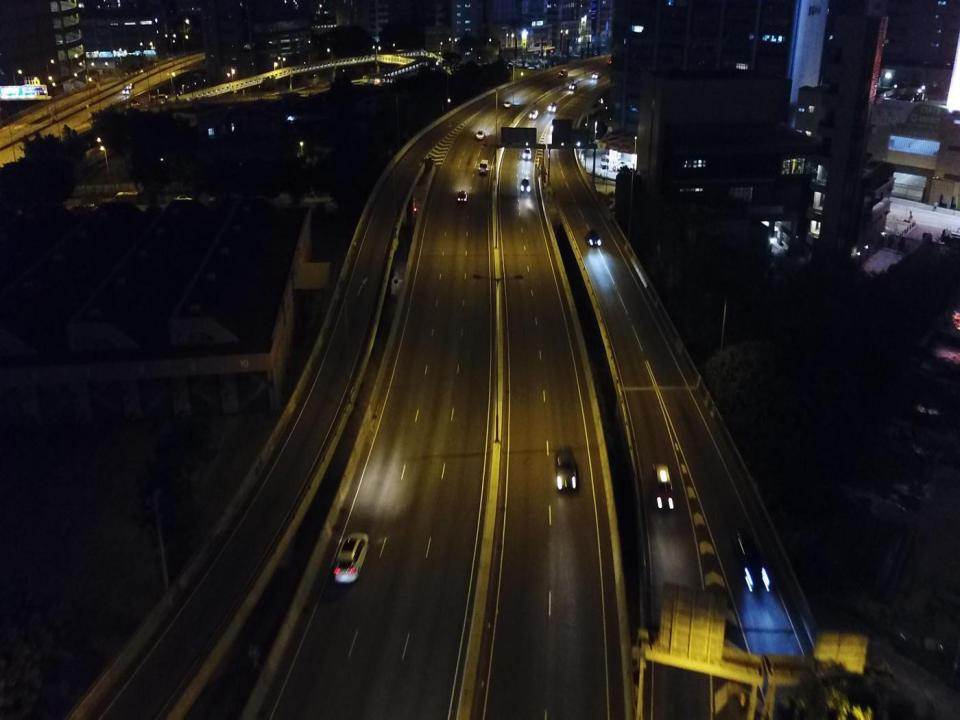car: (736, 530, 768, 589), (334, 531, 367, 584), (651, 462, 677, 514), (554, 447, 579, 492), (586, 228, 602, 247), (613, 160, 630, 171), (175, 194, 194, 203), (523, 146, 532, 161), (521, 177, 530, 192), (456, 191, 468, 202), (548, 102, 556, 114), (475, 131, 486, 139), (592, 72, 601, 80), (504, 99, 512, 108), (569, 82, 577, 90), (530, 110, 538, 118), (122, 87, 130, 94), (608, 58, 616, 65), (126, 83, 134, 89)
van: (600, 155, 618, 168), (479, 159, 488, 175), (560, 68, 568, 76)
